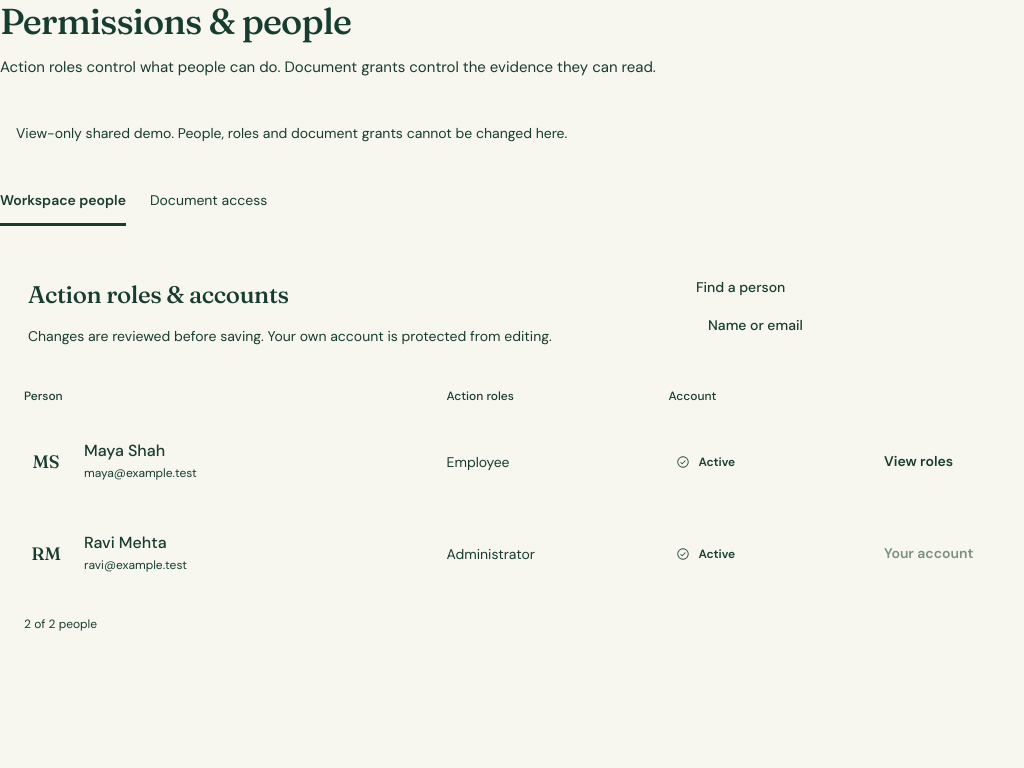
Test: shared demo permits inspecting roles while preventing role and account mutations
Step 1. Click the button with aria-label "View roles for Maya Shah" → [919, 462], box [868,440,969,484]
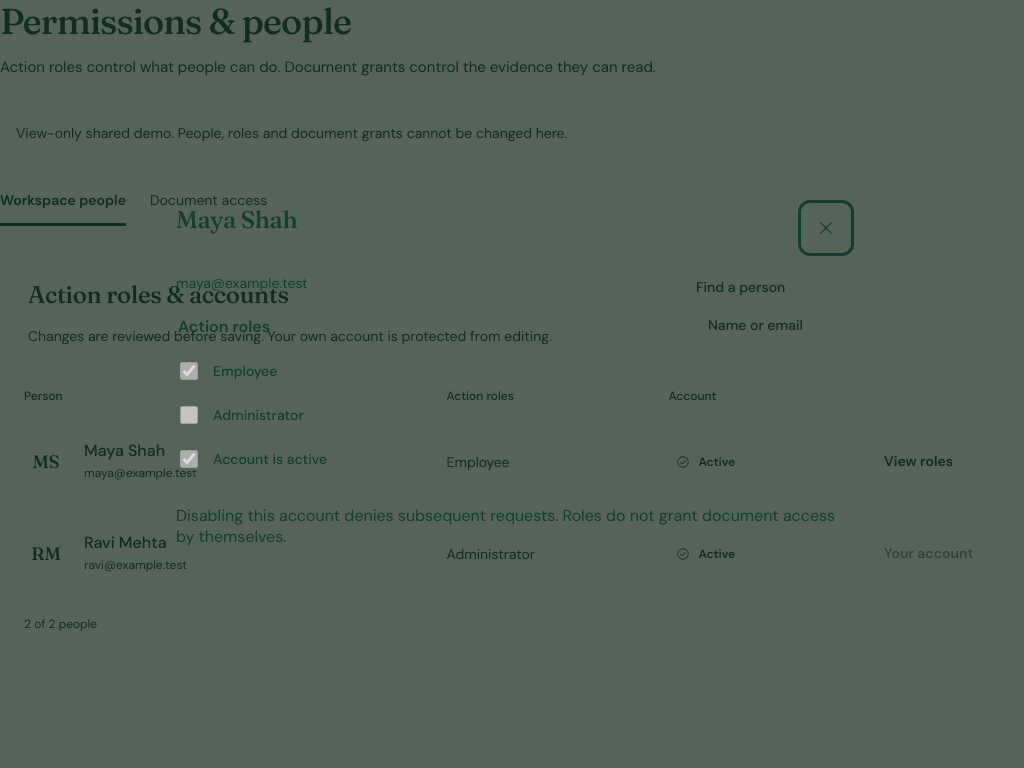
Now the checkbox labelled "Account is active" is disabled, box [180,450,198,468]
